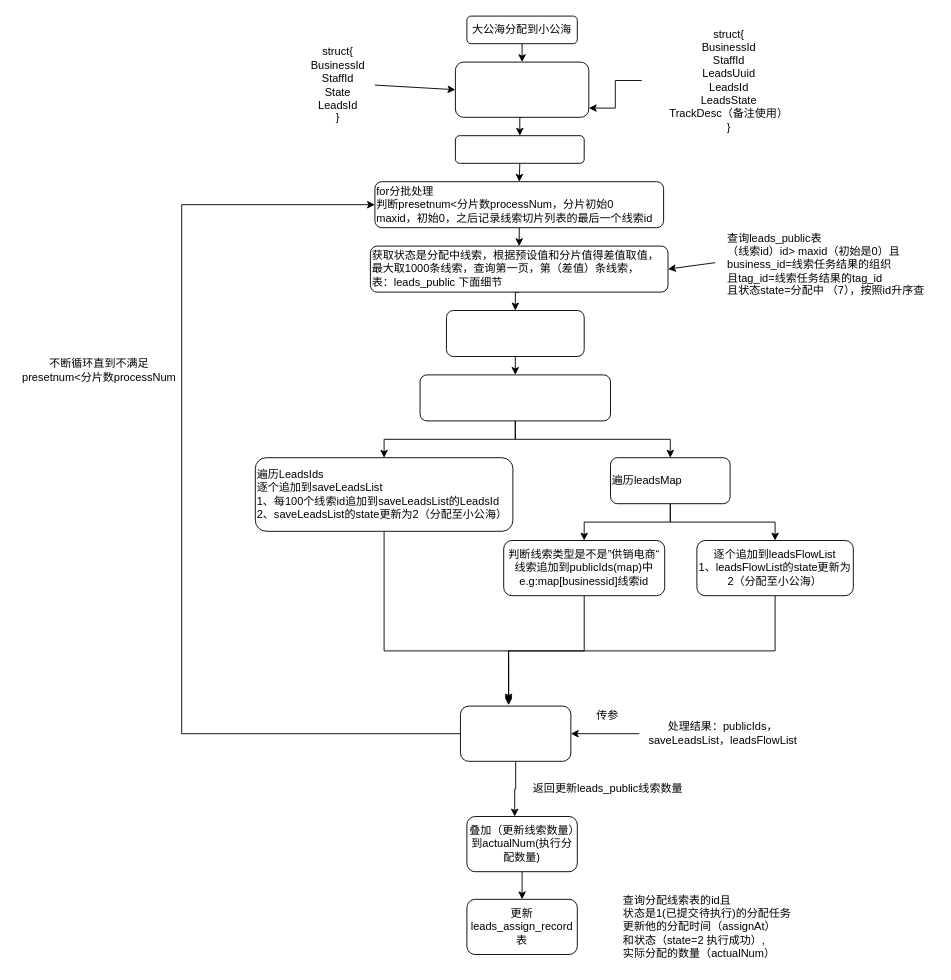
The diagram is 951 pixels wide and 980 high, and some of its shapes have lost their labels. Each missing label, with the centre of its shape:
"maxid赋值 LeadsIds最后一个线索id 分片数processNum累加LeadsIds数量" belongs at point (515, 397).
"从分配任务中获取预期值 PreSetNum" belongs at point (519, 149).
"保存" belongs at point (515, 733).
"定义两个结果是切片，值是结构体的变量 saveLeadsList leadsFlowList" belongs at point (521, 89).
"获取两个结果 LeadsIds []int64 leadsMap [线索id]线索详情" belongs at point (515, 333).
